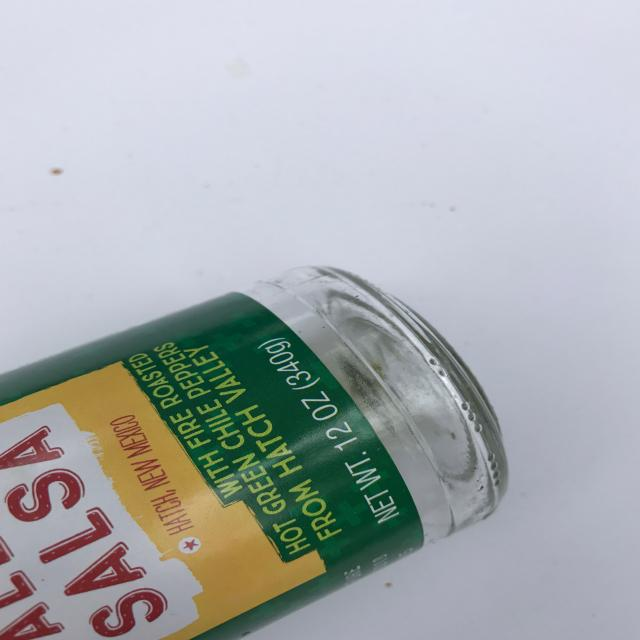glass: (0, 263, 510, 640)
